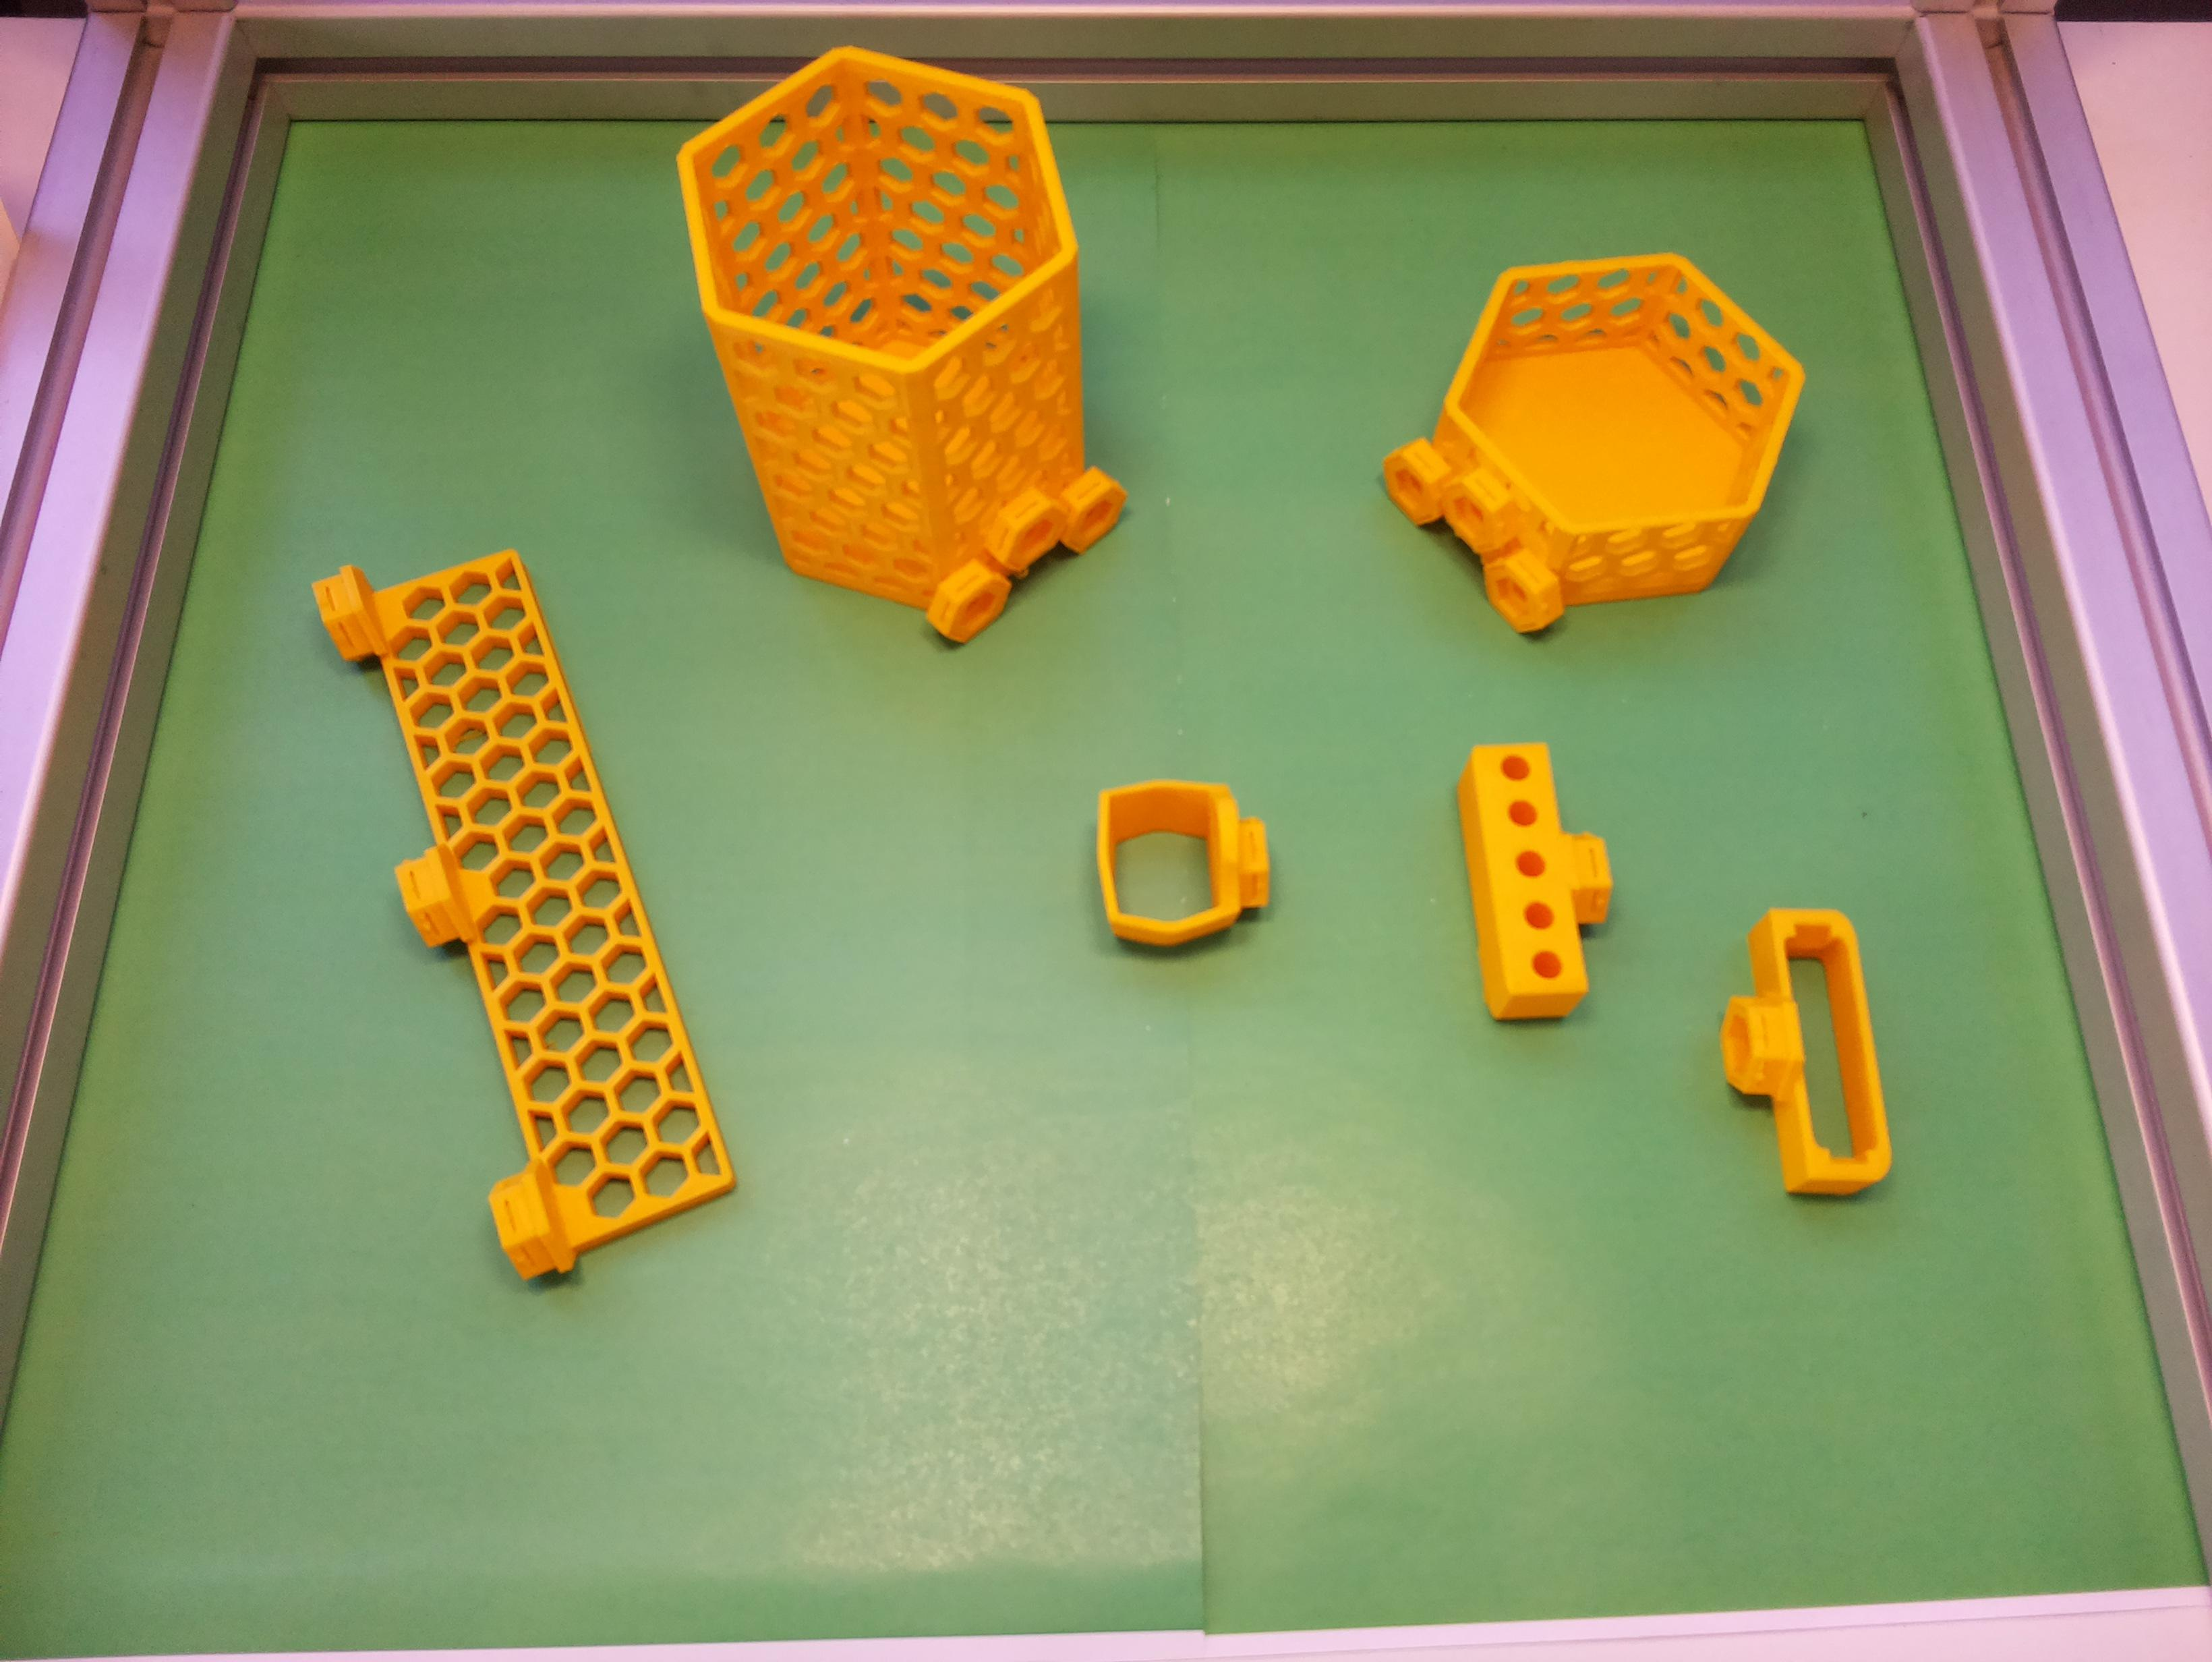bit_holder: (1456, 740, 1618, 1021)
bottle_holder: (1344, 180, 1851, 705)
cup_holder: (648, 2, 1164, 684)
cutter_holder: (1702, 897, 1898, 1210)
scissor_holder: (1096, 782, 1269, 944)
tool_holder: (281, 512, 747, 1288)
